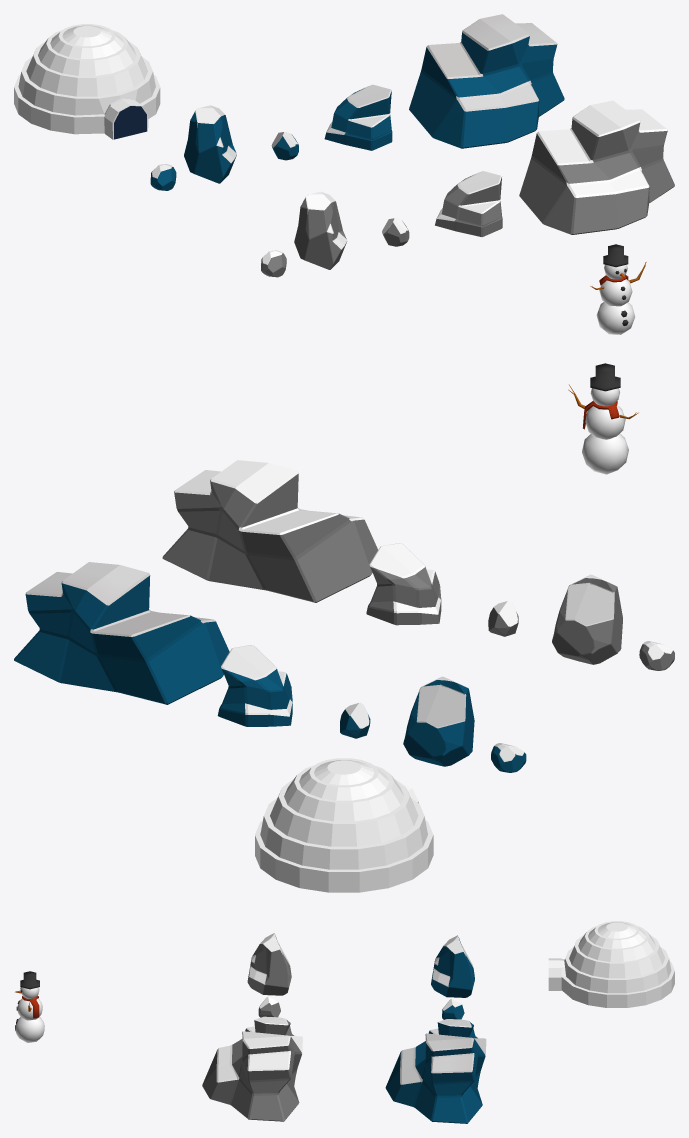
Rendered from Winter.fbx.
3 views of the same model, one above another, from view 1: azimuth 30°, elevation 25°; view 2: azimuth 150°, elevation 25°; view 3: azimuth 270°, elevation 25° (orthographic). The views are drawn at different scales.
Parts seen in each view (by area): view 1: Cube.013, Cube.012, Cylinder.030, Cylinder.015, Cylinder.016, Sphere.010, Sphere.013, Cylinder.022, Sphere.012, Sphere.009, Sphere.011, Sphere.014; view 2: Cube.012, Cube.013, Cylinder.030, Sphere.013, Sphere.010, Cylinder.016, Cylinder.015, Cylinder.022, Sphere.012, Sphere.009, Sphere.014, Sphere.011; view 3: Cylinder.030, Cube.012, Cube.013, Sphere.010, Sphere.013, Cylinder.022, Cylinder.015, Cylinder.016, Sphere.009, Sphere.012.
Boxes of the visible parts, x1,y1,x2,y2 form: Cube.013: (519, 100, 674, 234); Cube.012: (409, 14, 564, 148); Cylinder.030: (14, 24, 160, 139); Cylinder.015: (324, 84, 392, 150); Cylinder.016: (435, 171, 502, 236); Sphere.010: (184, 105, 236, 183); Sphere.013: (294, 191, 347, 269); Cylinder.022: (590, 244, 646, 334); Sphere.012: (382, 218, 409, 246); Sphere.009: (271, 132, 298, 160); Sphere.011: (150, 164, 176, 190); Sphere.014: (261, 250, 286, 277); Cube.012: (14, 562, 229, 704); Cube.013: (162, 460, 377, 602); Cylinder.030: (255, 758, 433, 892); Sphere.013: (552, 574, 622, 664); Sphere.010: (403, 676, 474, 766); Cylinder.016: (366, 543, 441, 625); Cylinder.015: (217, 645, 292, 726); Cylinder.022: (568, 363, 638, 474); Sphere.012: (488, 601, 518, 636); Sphere.009: (340, 702, 370, 738); Sphere.014: (639, 641, 674, 670); Sphere.011: (491, 743, 526, 772); Cylinder.030: (548, 921, 674, 1007); Cube.012: (385, 1033, 486, 1123); Cube.013: (202, 1031, 302, 1121); Sphere.010: (431, 935, 474, 997); Sphere.013: (247, 933, 291, 995); Cylinder.022: (15, 971, 44, 1042); Cylinder.015: (428, 1019, 478, 1038); Cylinder.016: (245, 1016, 294, 1035); Sphere.009: (442, 999, 464, 1019); Sphere.012: (258, 997, 280, 1017).
Bounding box in the file's own units: 25.41 × 5.08 × 42.99.
1 material, 1 textured.
